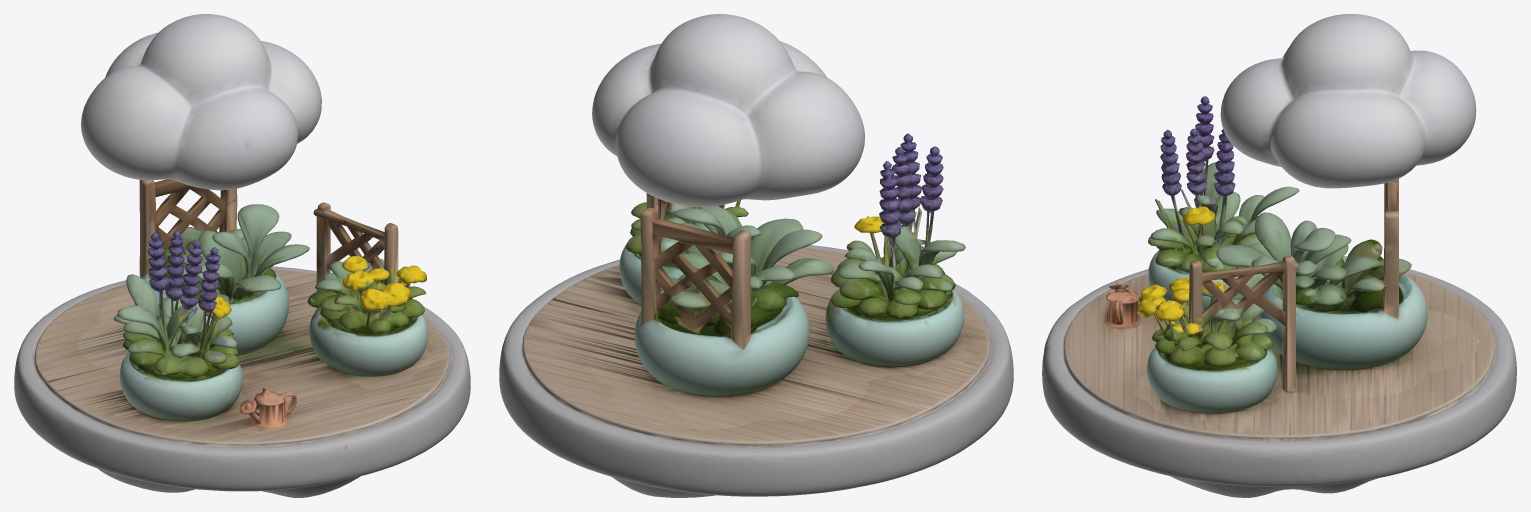
The model's file is sky-garden-3.glb.
3 renders of one model, left to right at view 1: azimuth 30°, elevation 25°; view 2: azimuth 150°, elevation 25°; view 3: azimuth 270°, elevation 25°, orthographic. The views are drawn at different scales.
Parts seen in each view (by area): view 1: node_0; view 2: node_0; view 3: node_0.
Part boxes in pixels (left/top/right/bottom): node_0: left=14, top=14, right=470, bottom=497; node_0: left=499, top=14, right=1013, bottom=497; node_0: left=1042, top=14, right=1516, bottom=497.
Size of the model in its own units: 0.967 by 0.9262 by 0.967.
1 material, 1 textured.
